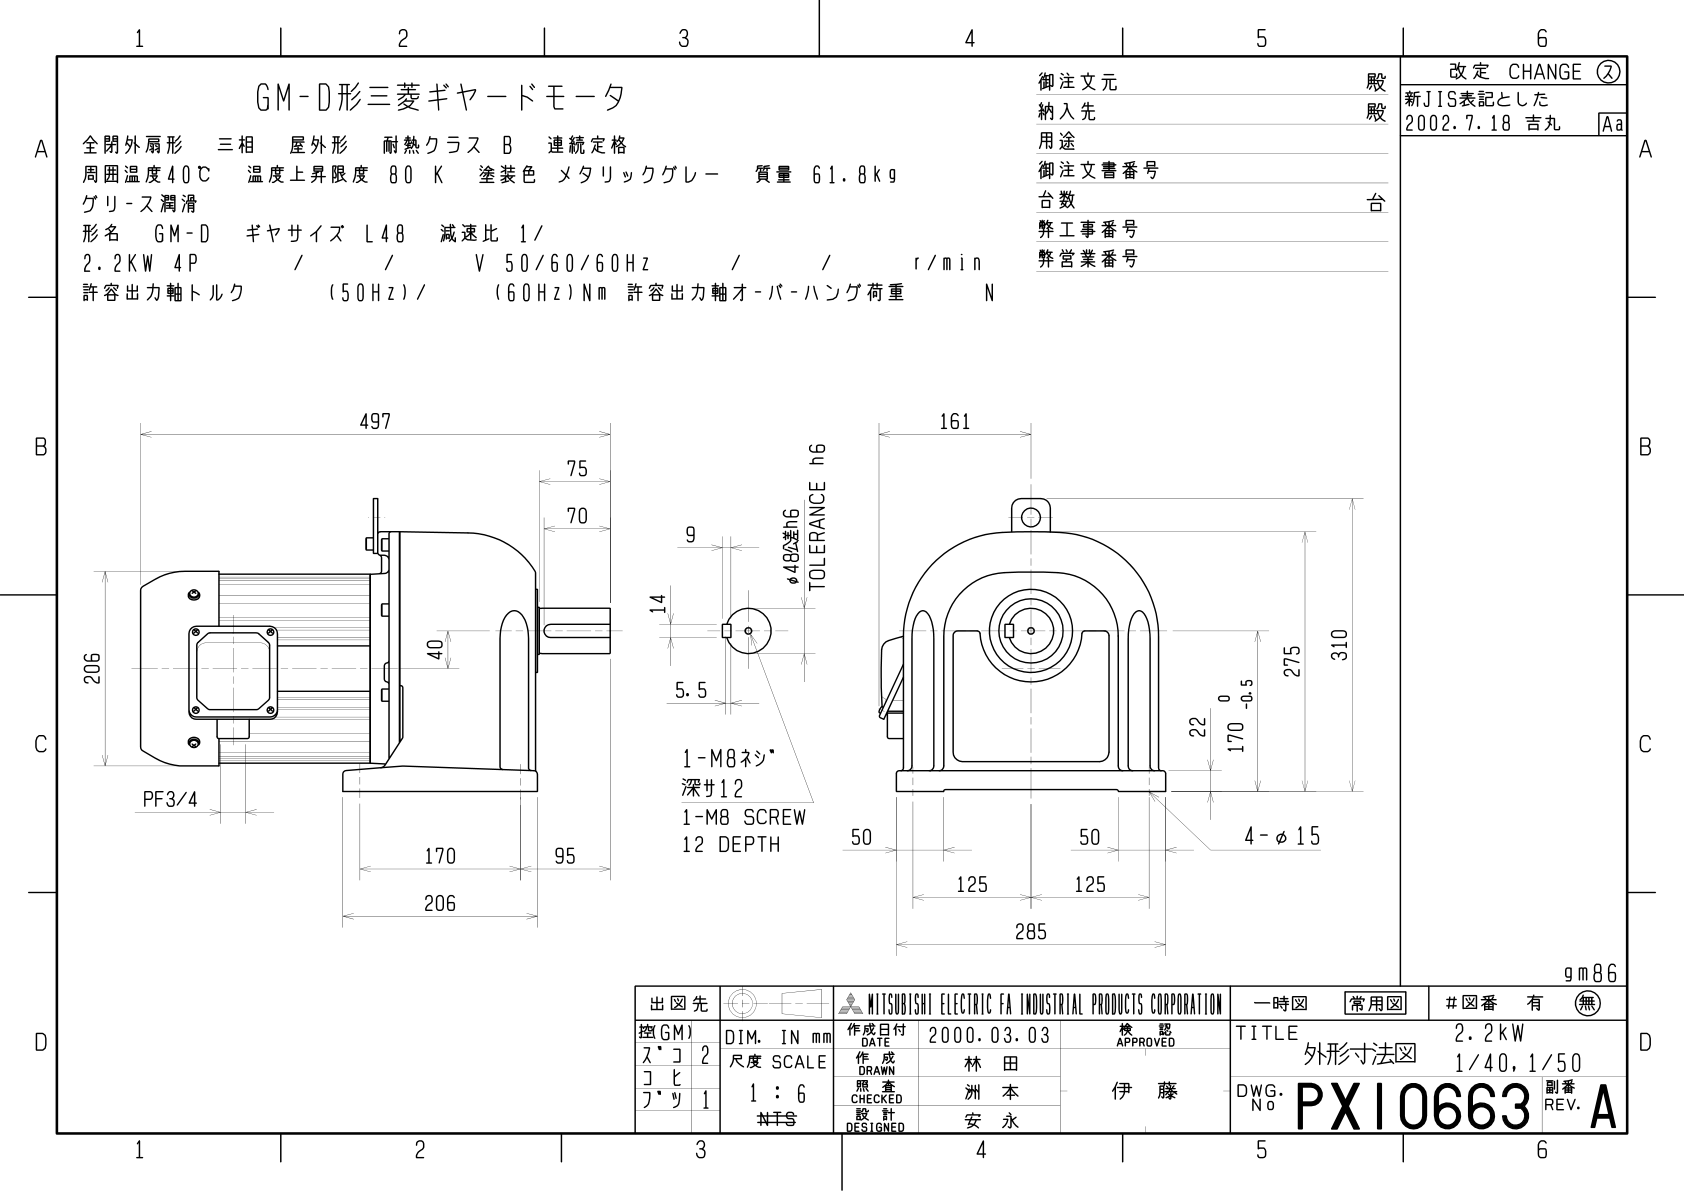GM_D_屋外＿三相_脚: (73, 365, 1381, 962)
